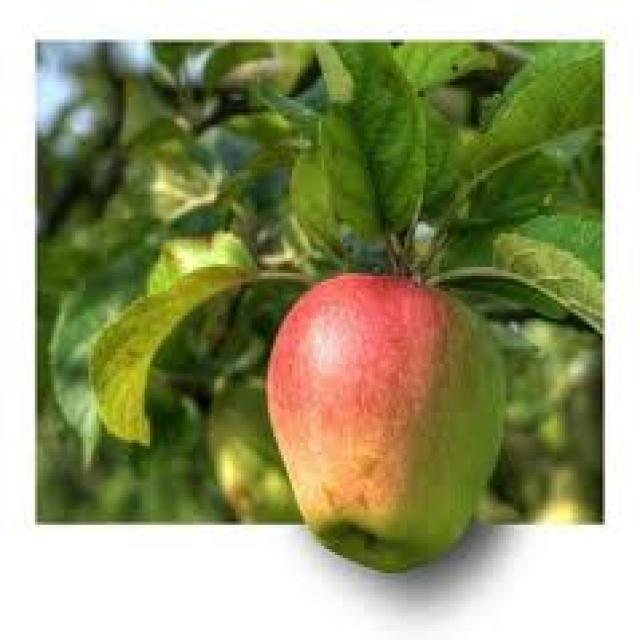Apple: (263, 270, 507, 574)
